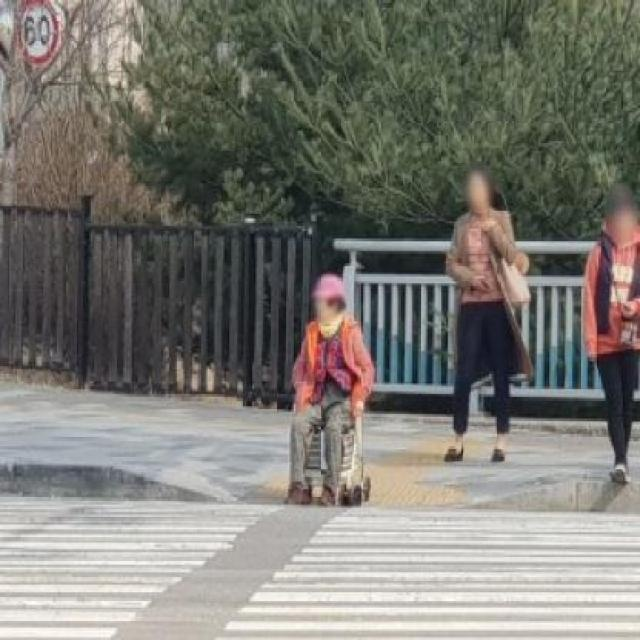obstacle: (445, 163, 526, 465), (289, 278, 376, 507), (583, 189, 639, 482)
